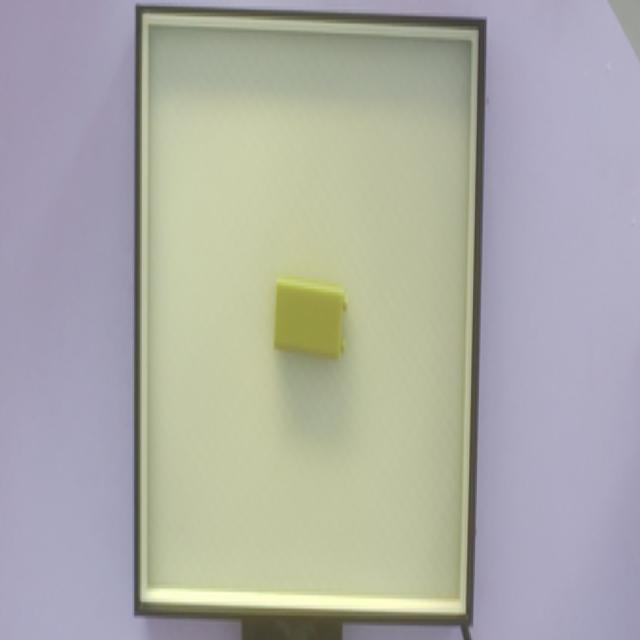bateria: (274, 274, 348, 359)
mesa: (134, 6, 486, 625)
